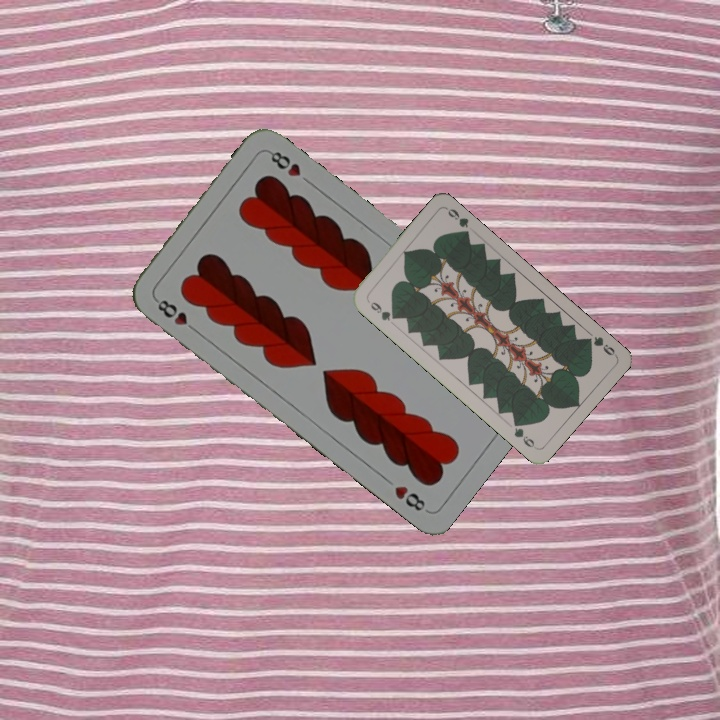G9: (363, 296, 400, 324), (580, 332, 619, 358)
H8: (151, 294, 201, 336)
